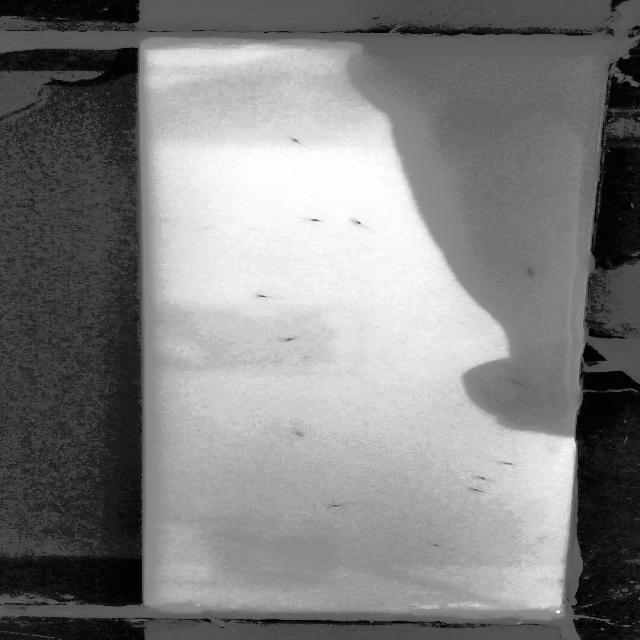shrimp: (293, 215, 327, 226), (366, 46, 391, 59), (348, 218, 374, 230), (422, 542, 458, 550), (258, 292, 288, 301), (522, 266, 541, 280), (322, 502, 357, 509), (295, 431, 320, 440), (283, 335, 307, 344), (468, 487, 490, 496), (513, 378, 532, 388), (288, 137, 307, 146), (472, 476, 494, 483), (501, 461, 519, 468)
